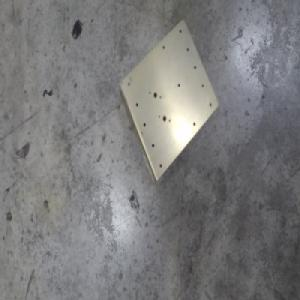MetalSheet: (116, 16, 220, 184)
